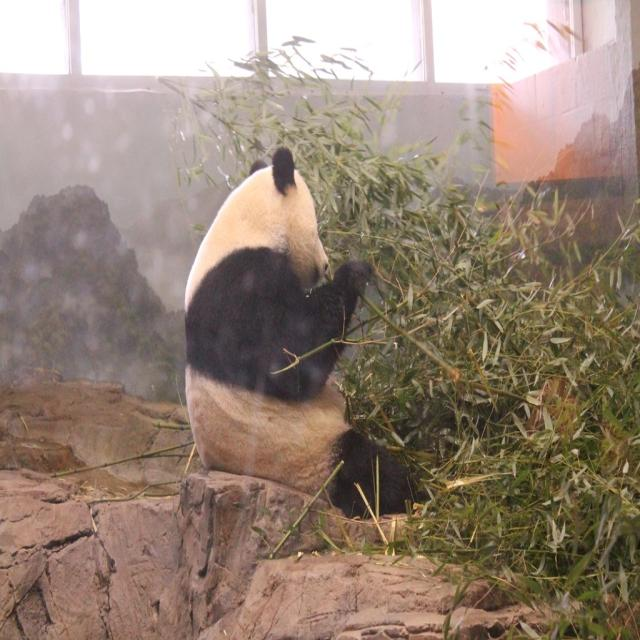panda: (185, 142, 425, 521)
